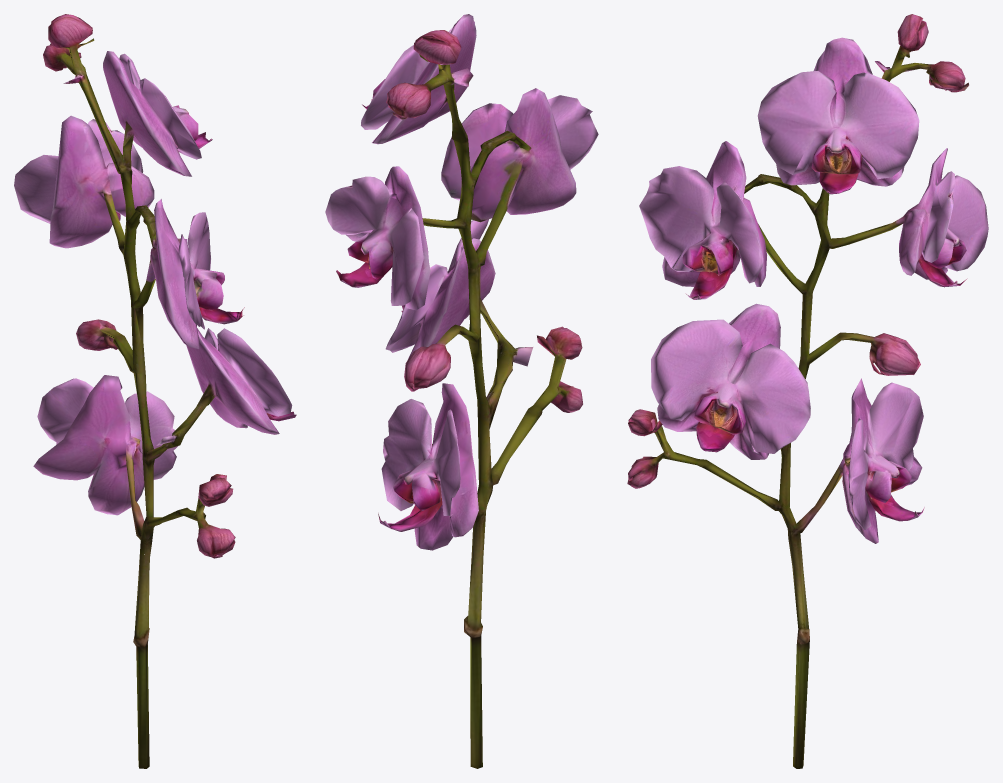
File: Orchid 1.glb
The picture shows the model from 3 angles, left to right: view 1: azimuth 30°, elevation 25°; view 2: azimuth 150°, elevation 25°; view 3: azimuth 270°, elevation 25°; orthographic projection. The views are drawn at different scales.
Parts seen in each view (by area): view 1: tripo_node_225fe441-dd06-4f02-bf80-a87395c6c8d2; view 2: tripo_node_225fe441-dd06-4f02-bf80-a87395c6c8d2; view 3: tripo_node_225fe441-dd06-4f02-bf80-a87395c6c8d2.
Part boxes in pixels (x1=…): tripo_node_225fe441-dd06-4f02-bf80-a87395c6c8d2: x1=14, y1=14, x2=296, y2=768; tripo_node_225fe441-dd06-4f02-bf80-a87395c6c8d2: x1=325, y1=14, x2=598, y2=768; tripo_node_225fe441-dd06-4f02-bf80-a87395c6c8d2: x1=627, y1=14, x2=988, y2=768.
Size of the model in its own units: 0.2332 by 0.9798 by 0.4341.
Materials: 1 (1 with a texture image).
